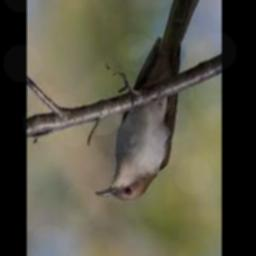Cuckoo: (95, 0, 205, 201)
